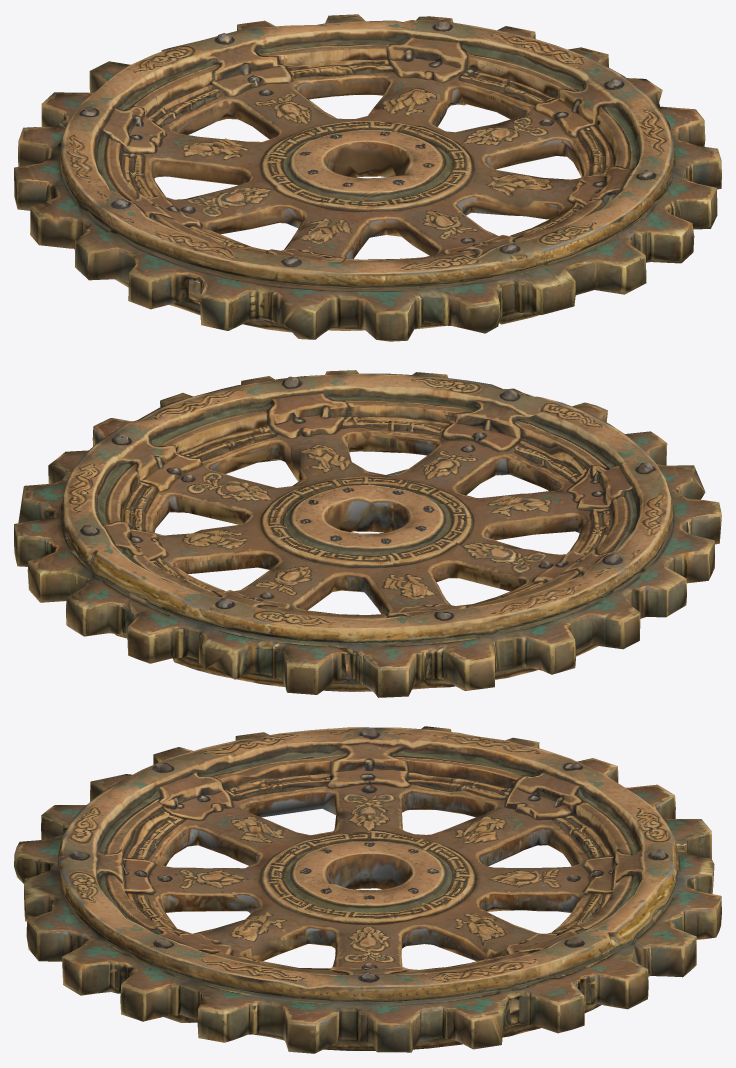
File: PR_BronzeGear_06.fbx
The picture shows the model from 3 angles, top to bottom: view 1: azimuth 30°, elevation 25°; view 2: azimuth 150°, elevation 25°; view 3: azimuth 270°, elevation 25°; orthographic projection.
Visible parts, largest first — view 1: texture_mapping; view 2: texture_mapping; view 3: texture_mapping.
Part boxes in pixels (x1,y1,x2,y2): texture_mapping: (14,14,721,341); texture_mapping: (14,370,721,697); texture_mapping: (14,726,721,1053).
Bounding box in the file's own units: 1 × 1 × 0.1131.
1 material, 1 textured.
